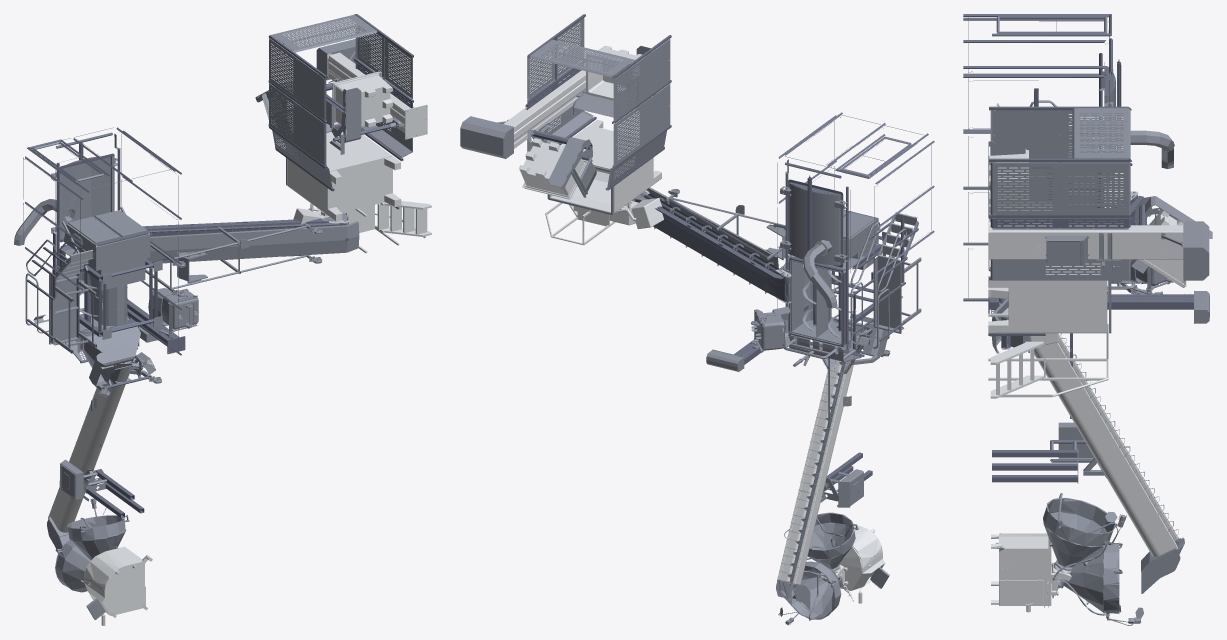
File: linja-karkea.glb
The picture shows the model from 3 angles, left to right: view 1: azimuth 30°, elevation 25°; view 2: azimuth 150°, elevation 25°; view 3: azimuth 270°, elevation 25°; orthographic projection. The views are drawn at different scales.
Visible parts, largest first — view 1: 00104678/00104675, 00111341/00111340, 00104118/00104173, 00103920/00103985, 00103742/00105726, 00112477/00112183, 00112477/00112123, 00104678/00104677, 00112477/00112008, 00103742/00105533, 00112477/00111841, 00112477/00112264 (+17 smaller); view 2: 00104678/00104675, 00104118/00104173, 00103920/00103927, 00103742/00108393, 00112477/00112183, 00112477/00112123, 00112477/00111352, 00112477/00111838, 00108912/00108909, 00111341/00111340, 00112477/00112264, 00111341/00111337 (+13 smaller); view 3: 00112477/00112008, 00104118/00104173, 00104678/00104675, 00112477/00111352, 00112477/00112123, 00111341/00111340, 00108912/00108909, 00112477/00112264, 00111341/00111337, 00104678/00104677, 00112477/00112428, 00112477/00112009 (+22 smaller).
Part boxes in pixels (left/top/right/bottom): 00104678/00104675: left=287, top=129, right=401, bottom=224; 00111341/00111340: left=81, top=546, right=152, bottom=625; 00104118/00104173: left=48, top=365, right=132, bottom=532; 00103920/00103985: left=223, top=225, right=347, bottom=259; 00103742/00105726: left=59, top=156, right=114, bottom=239; 00112477/00112183: left=269, top=83, right=326, bottom=165; 00112477/00112123: left=269, top=38, right=326, bottom=120; 00104678/00104677: left=317, top=201, right=431, bottom=253; 00112477/00112008: left=355, top=26, right=412, bottom=99; 00103742/00105533: left=96, top=232, right=150, bottom=290; 00112477/00111841: left=332, top=71, right=392, bottom=127; 00112477/00112264: left=271, top=14, right=377, bottom=52; 00104678/00104675: left=550, top=120, right=663, bottom=229; 00104118/00104173: left=777, top=330, right=861, bottom=584; 00103920/00103927: left=635, top=193, right=791, bottom=302; 00103742/00108393: left=788, top=183, right=842, bottom=265; 00112477/00112183: left=613, top=83, right=670, bottom=165; 00112477/00112123: left=613, top=39, right=670, bottom=120; 00112477/00111352: left=503, top=69, right=585, bottom=148; 00112477/00111838: left=519, top=138, right=587, bottom=199; 00108912/00108909: left=807, top=512, right=858, bottom=571; 00111341/00111340: left=839, top=514, right=884, bottom=603; 00112477/00112264: left=529, top=39, right=634, bottom=77; 00111341/00111337: left=791, top=561, right=841, bottom=620; 00112477/00112008: left=990, top=162, right=1130, bottom=215; 00104118/00104173: left=1030, top=335, right=1177, bottom=556; 00104678/00104675: left=988, top=262, right=1107, bottom=345; 00112477/00111352: left=988, top=219, right=1183, bottom=268; 00112477/00112123: left=990, top=110, right=1126, bottom=158; 00111341/00111340: left=991, top=533, right=1061, bottom=612; 00108912/00108909: left=1043, top=493, right=1117, bottom=580; 00112477/00112264: left=1072, top=108, right=1130, bottom=158; 00111341/00111337: left=1052, top=542, right=1122, bottom=618; 00104678/00104677: left=988, top=313, right=1108, bottom=398; 00112477/00112428: left=990, top=259, right=1130, bottom=280; 00112477/00112009: left=990, top=218, right=1130, bottom=229.
Size of the model in its own units: 9.44 by 12.13 by 4.36.
